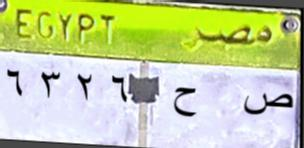2: (72, 67, 97, 108)
3: (37, 65, 64, 103)
6: (4, 65, 29, 101), (108, 76, 129, 110)
7aa: (169, 78, 200, 124)
saad: (237, 90, 295, 119)
